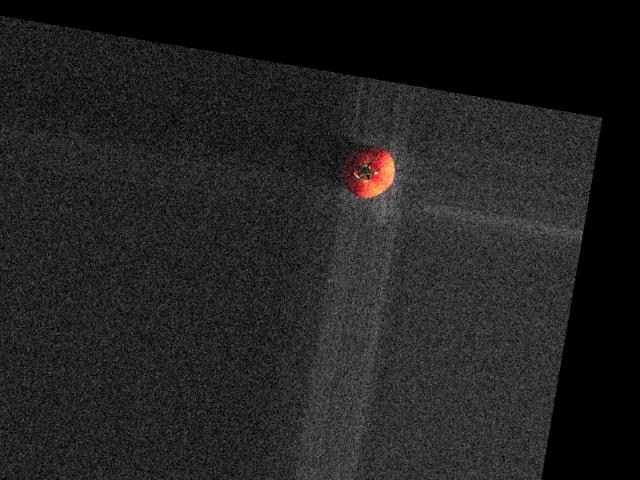tomato: (337, 141, 398, 201)
